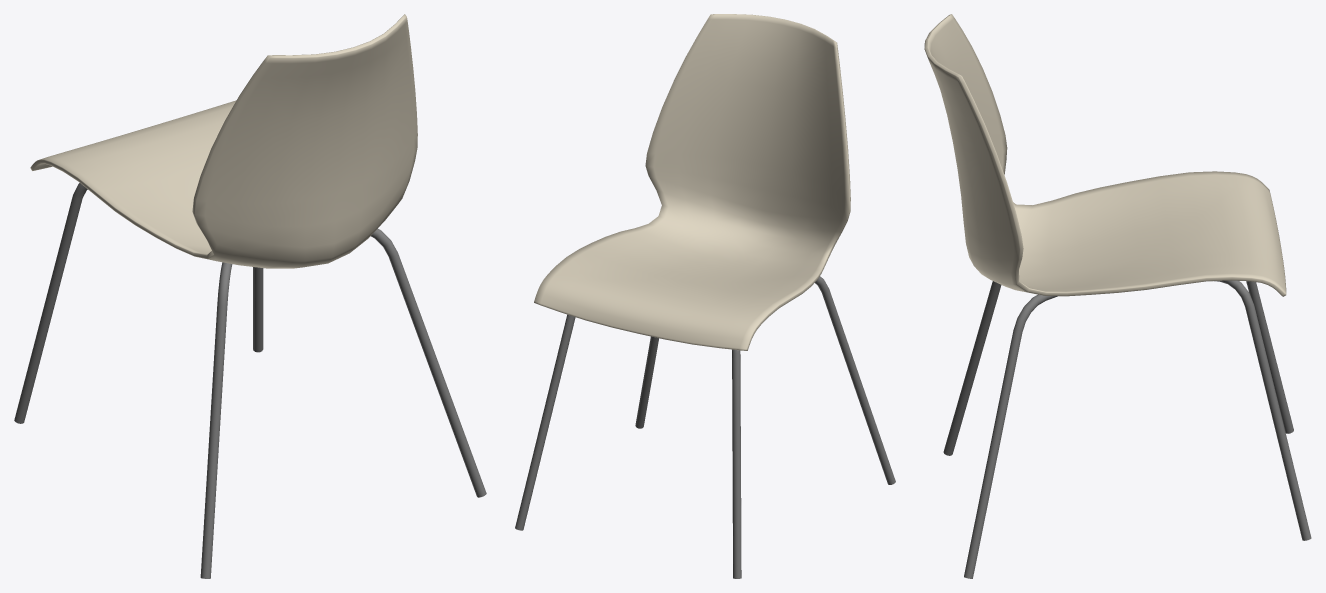
Rendered from chair.obj.
The picture shows the model from 3 angles, left to right: view 1: azimuth 30°, elevation 25°; view 2: azimuth 150°, elevation 25°; view 3: azimuth 270°, elevation 25°; orthographic projection. The views are drawn at different scales.
Visible parts, largest first — view 1: 0139; view 2: 0139; view 3: 0139.
Part boxes in pixels (x1=…): 0139: x1=14, y1=14, x2=486, y2=578; 0139: x1=515, y1=14, x2=895, y2=578; 0139: x1=924, y1=14, x2=1311, y2=578.
Size of the model in its own units: 50.06 by 81.98 by 60.99.
